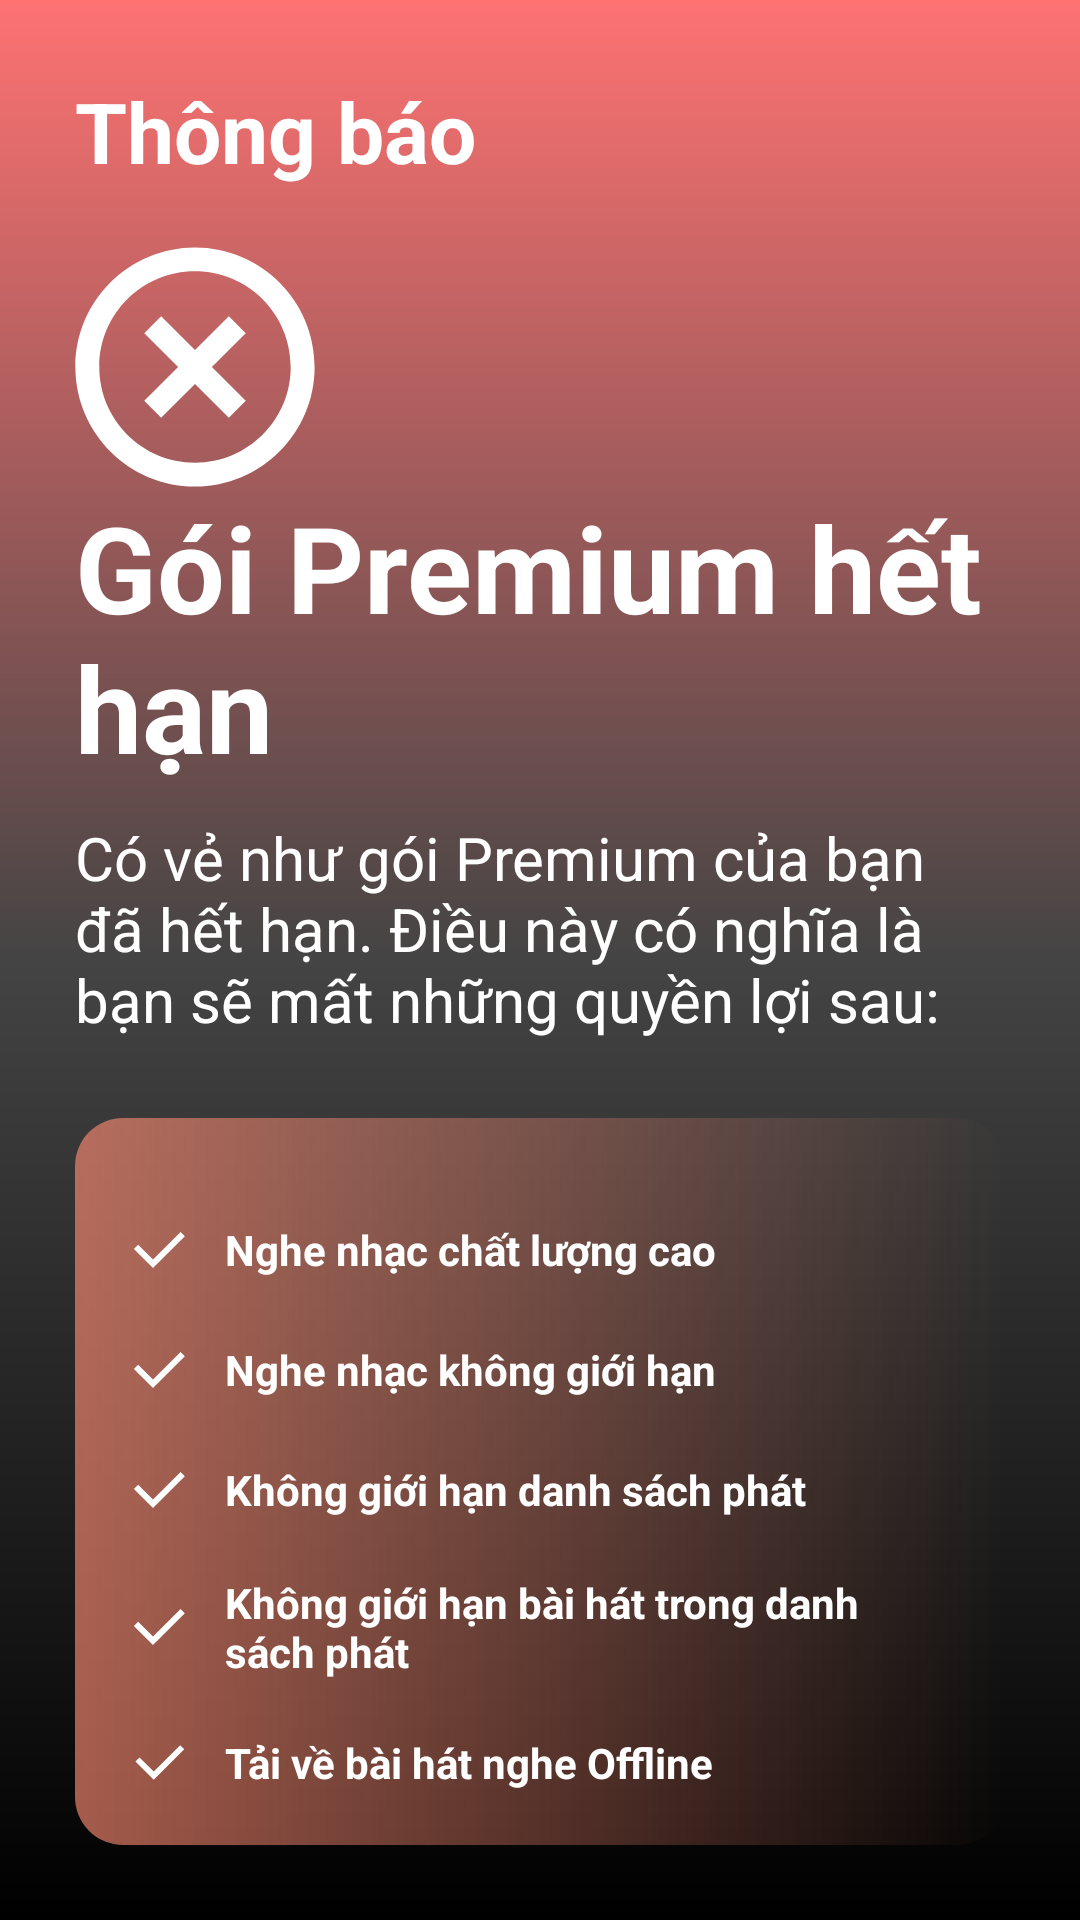

Point at icon controls on the screen. Image size 1080*1920, points as (x=x, y=y).
check line: (x=159, y=1250), (x=159, y=1370), (x=159, y=1490), (x=159, y=1627), (x=159, y=1762)
close: (x=195, y=367)
